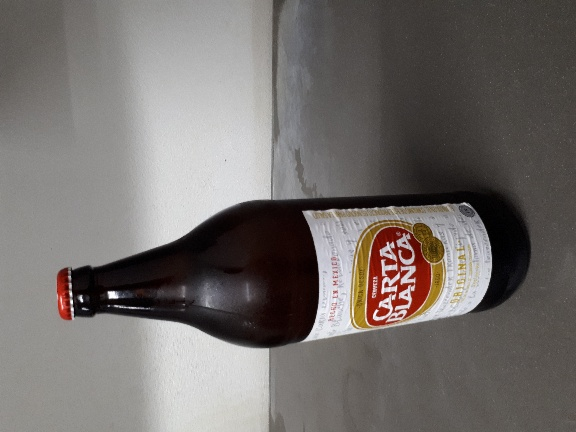CBB: (38, 135, 386, 258)
